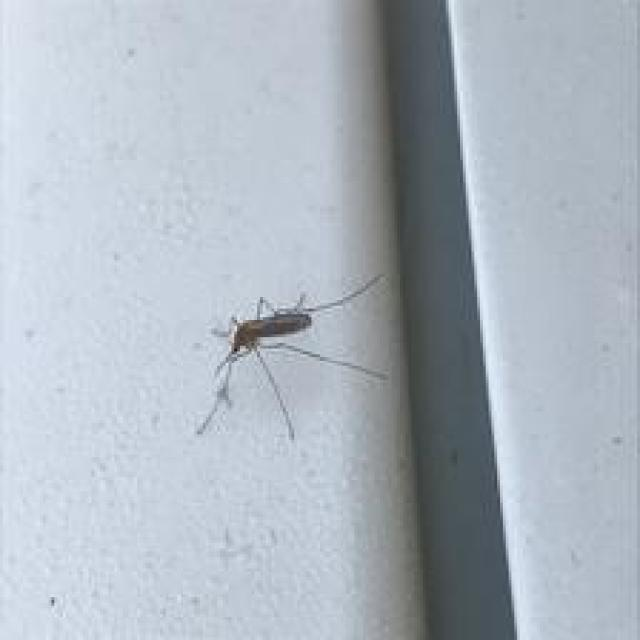Culex: (193, 271, 390, 443)
